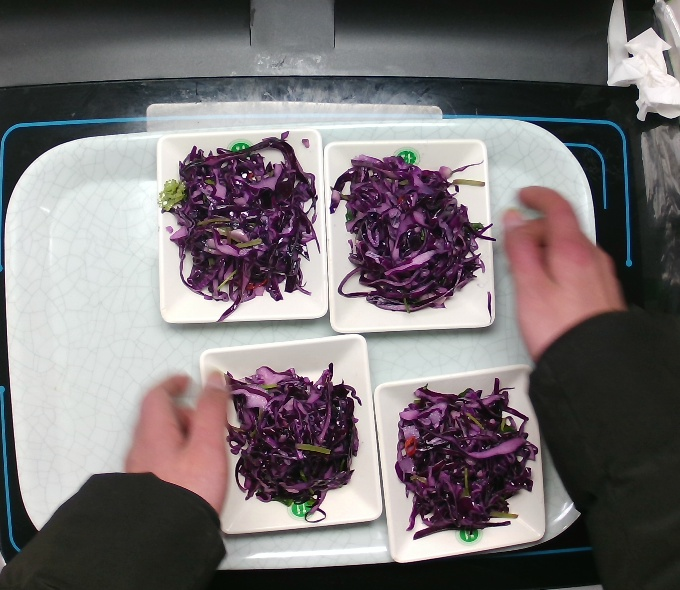wcq-ZiGanLan: (173, 135, 316, 301), (341, 150, 486, 312), (393, 381, 538, 534), (226, 356, 358, 511)
